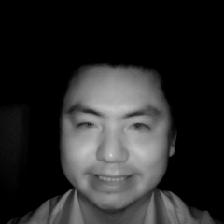happy: (52, 53, 186, 215)
